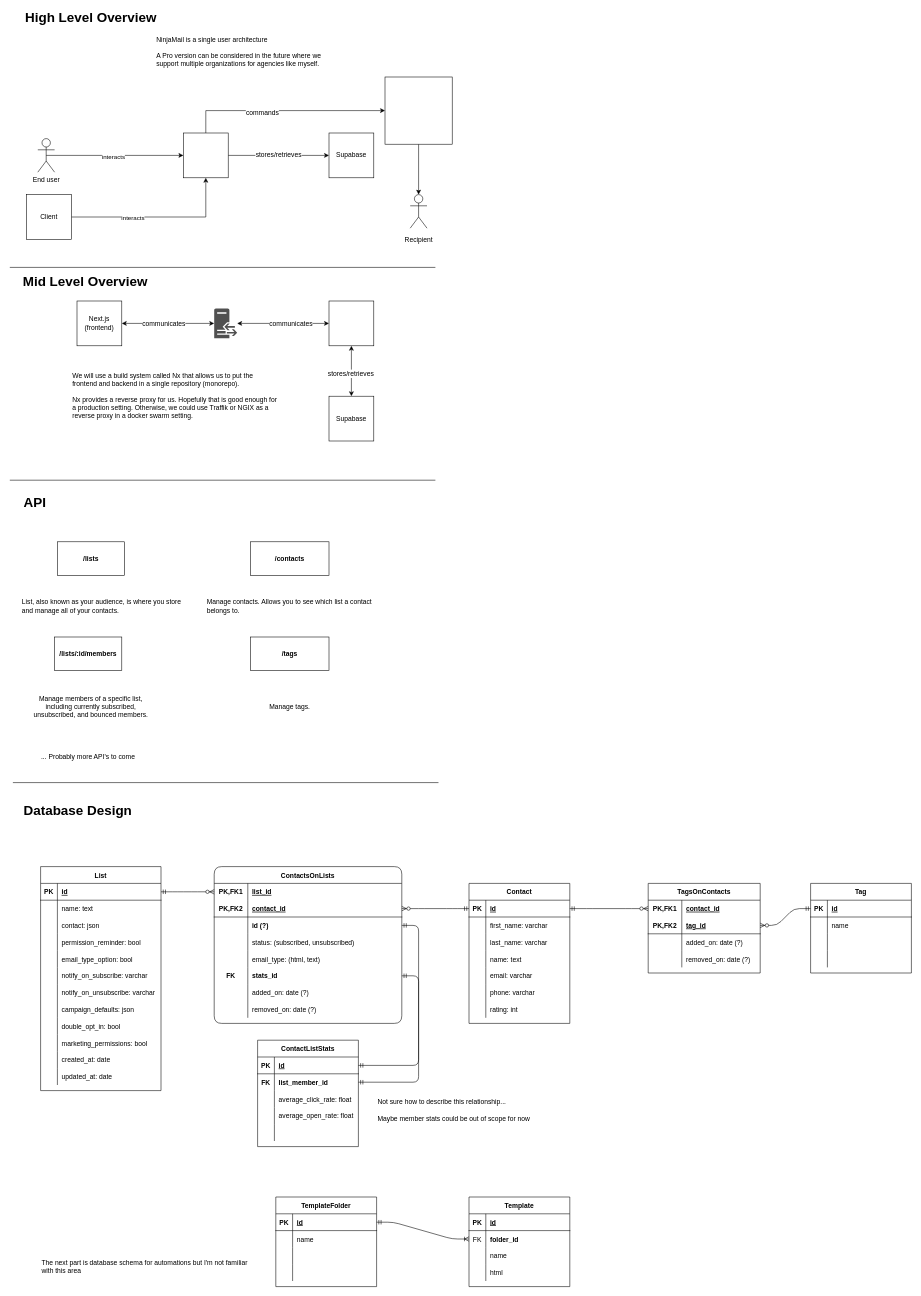
This 921x1296 diagram has some shape labels left out. The shapes that lost their labels are listed below. From the top down, each one's centre as x and y in pixels, then its label:
At pixel 418 110: "Email Provider (i.e. Amazon SES, MailGun, MailChimp, etc)".
At pixel 205 155: "NinjaMail".
At pixel 225 323: "Reverse Proxy".
At pixel 351 323: "Nest.js (backend)".
